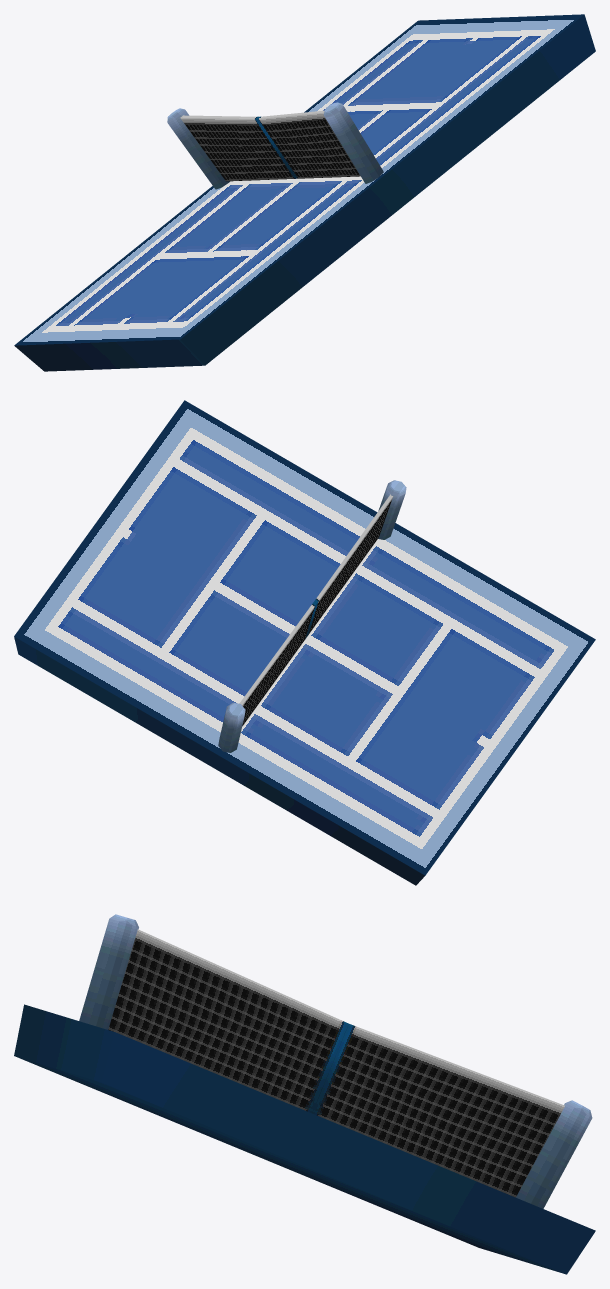
The model's file is ps2_save-icons_tennisnoouji-samasmashhit2.glb.
3 views of the same model, one above another, from view 1: azimuth 30°, elevation 25°; view 2: azimuth 150°, elevation 25°; view 3: azimuth 270°, elevation 25° (orthographic). The views are drawn at different scales.
Parts seen in each view (by area): view 1: icon.ico; view 2: icon.ico; view 3: icon.ico.
Part boxes in pixels (left/top/right/bottom): icon.ico: left=14, top=14, right=595, bottom=371; icon.ico: left=14, top=400, right=595, bottom=885; icon.ico: left=14, top=914, right=595, bottom=1274.
Bounding box in the file's own units: 3.35 × 2.51 × 2.77.
Materials: 1 (1 with a texture image).
